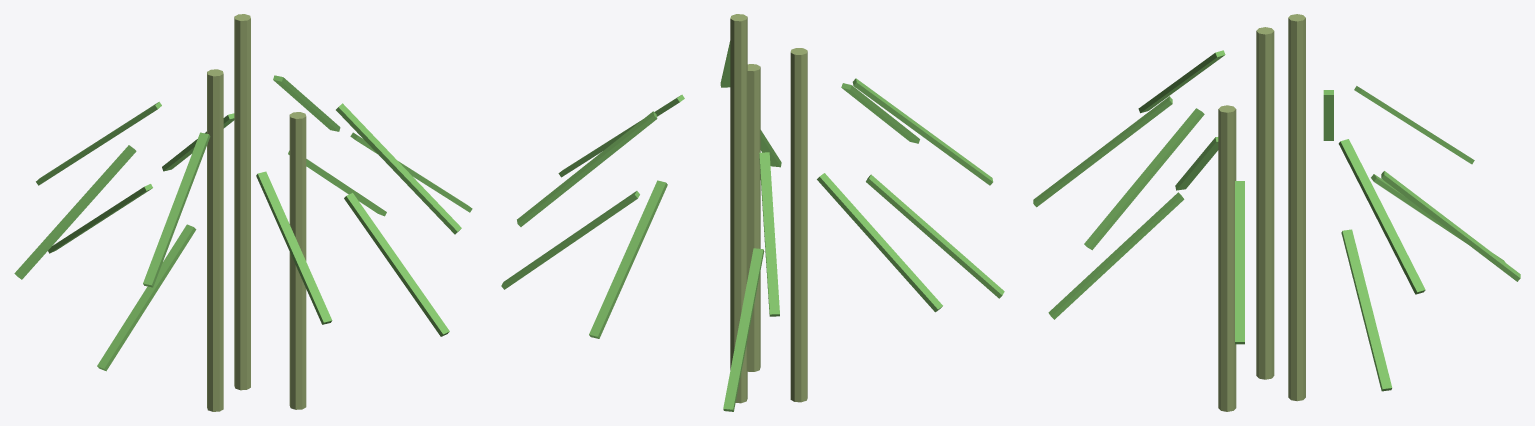
The model's file is Veg_BananaClump.fbx.
3 renders of one model, left to right at view 1: azimuth 30°, elevation 25°; view 2: azimuth 150°, elevation 25°; view 3: azimuth 270°, elevation 25°, orthographic. The views are drawn at different scales.
Parts seen in each view (by area): view 1: Veg_BananaClump; view 2: Veg_BananaClump; view 3: Veg_BananaClump.
Boxes of the visible parts, x1,y1,x2,y2 form: Veg_BananaClump: (14,14,472,411); Veg_BananaClump: (501,14,1004,411); Veg_BananaClump: (1033,14,1520,411).
Size of the model in its own units: 3.84 by 3.3 by 3.84.
